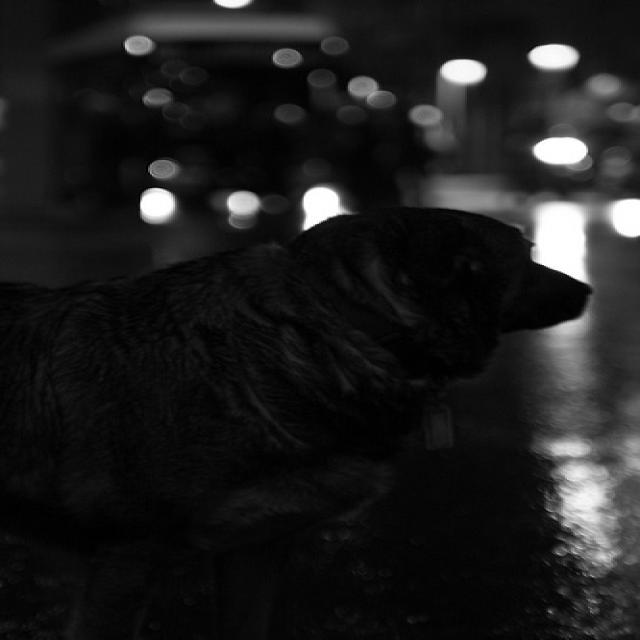Dog: (56, 228, 636, 570)
